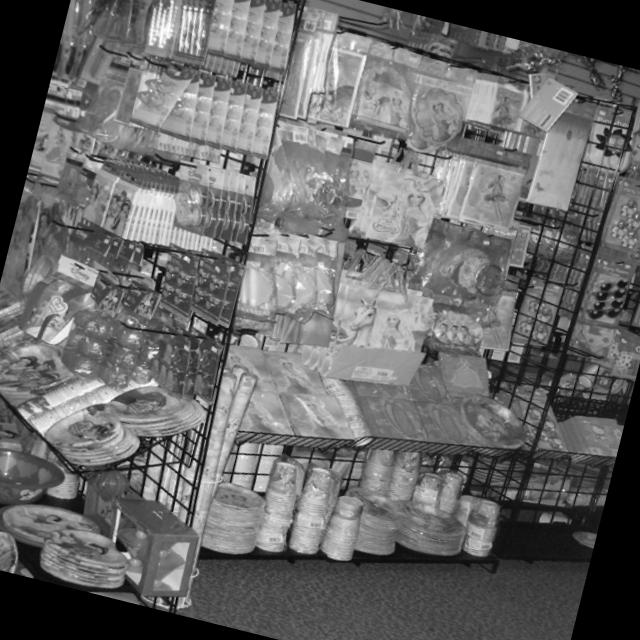bags occluded: (312, 257, 434, 383), (351, 148, 440, 250)
floor -X: (0, 484, 586, 640)
paper dishes: (252, 460, 297, 547)
paper dove: (105, 381, 204, 436), (37, 526, 120, 589), (207, 479, 261, 552), (391, 500, 462, 552)
stand clothes: (198, 13, 640, 571)
toys: (284, 20, 476, 142), (126, 60, 276, 159), (243, 229, 335, 321), (169, 162, 252, 239)
wall clock: (298, 0, 640, 113)
